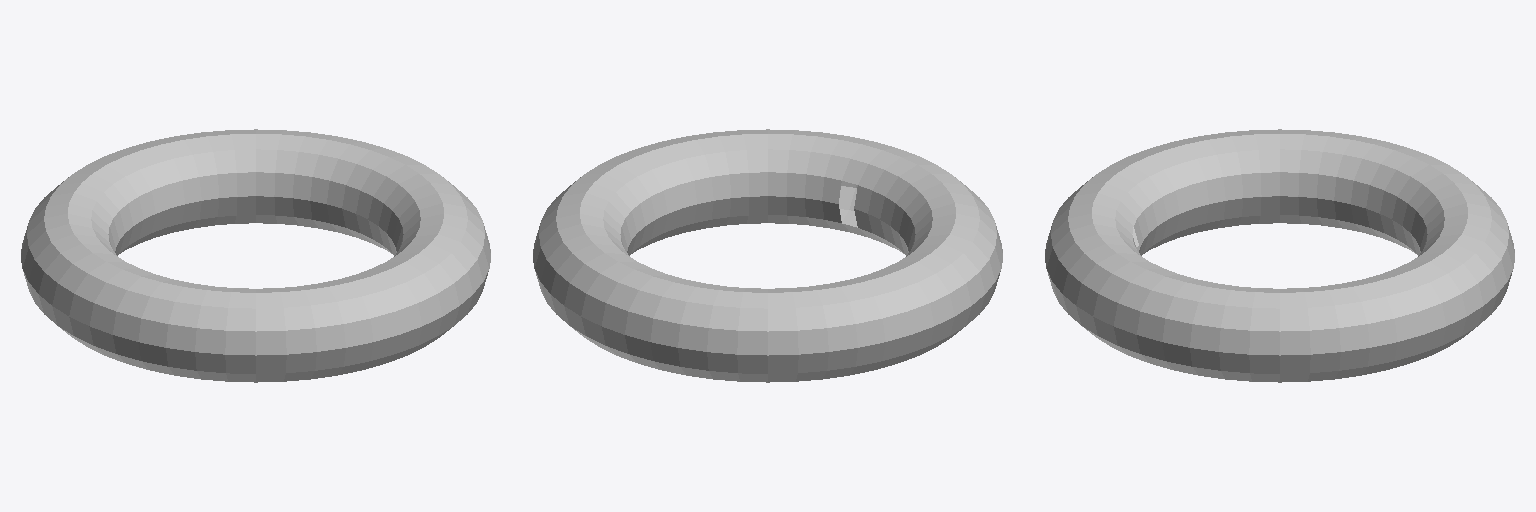
Rendered from torus_lvl.obj.
3 views of the same model, side by side, from view 1: azimuth 30°, elevation 25°; view 2: azimuth 150°, elevation 25°; view 3: azimuth 270°, elevation 25° (orthographic).
Parts seen in each view (by area): view 1: Torus; view 2: Torus; view 3: Torus.
Part boxes in pixels (bbox=[...]): Torus: bbox=[21, 129, 490, 382]; Torus: bbox=[533, 129, 1002, 382]; Torus: bbox=[1045, 129, 1514, 382].
Size of the model in its own units: 60.65 by 12.13 by 60.65.